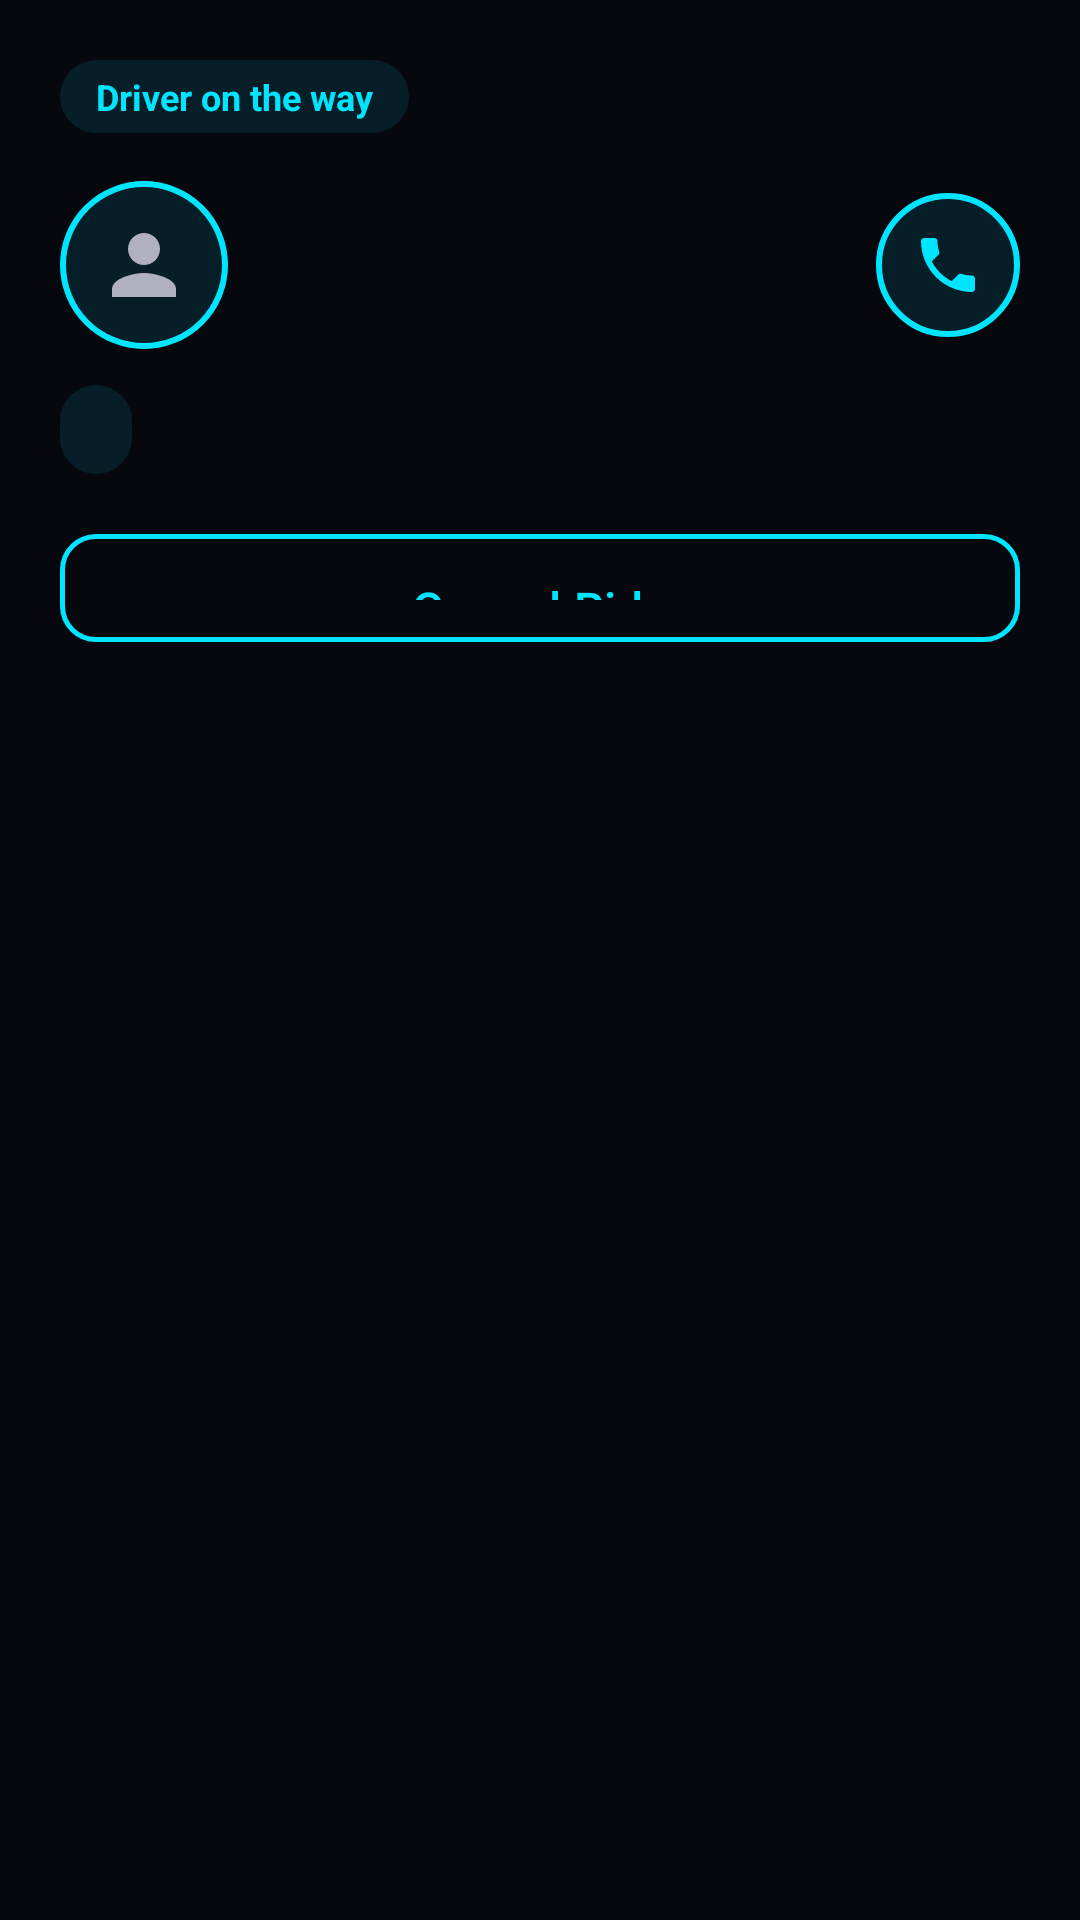

Locate icon controls on the screen. Image size 1080×1920, boxes as {"left": x1, "top": y1, "right": x2, "bottom": y2}.
Call Driver: {"left": 876, "top": 193, "right": 1020, "bottom": 337}
